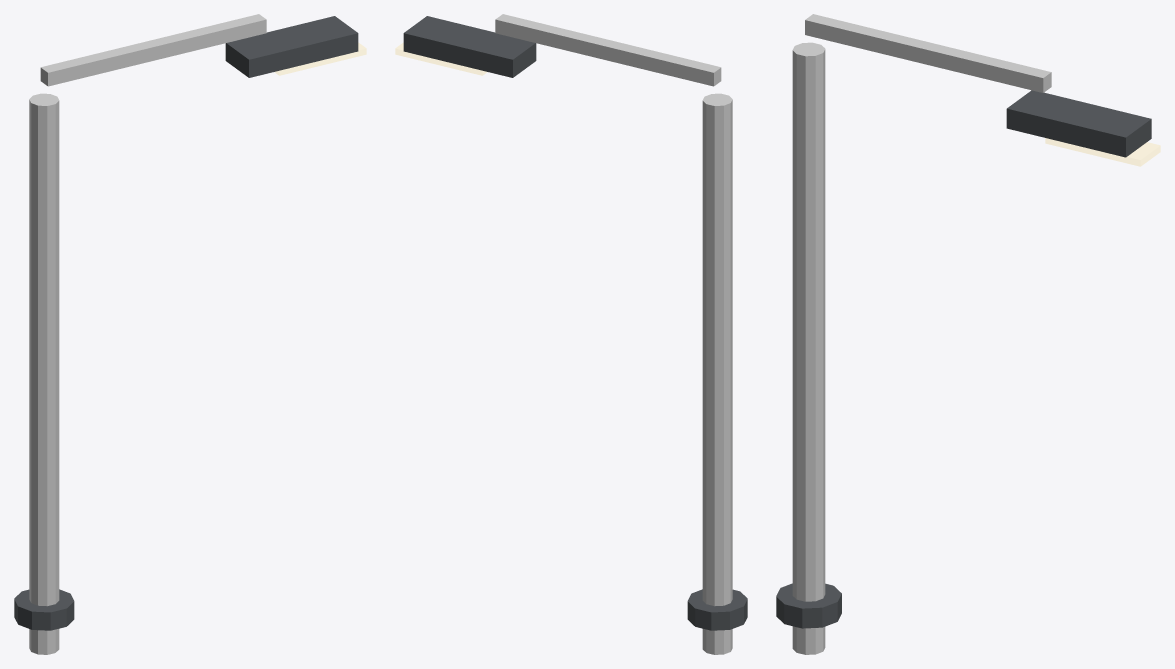
File: Lgtmodern_0000024.glb
3 renders of one model, left to right at view 1: azimuth 30°, elevation 25°; view 2: azimuth 150°, elevation 25°; view 3: azimuth 330°, elevation 25°, orthographic. The views are drawn at different scales.
Parts seen in each view (by area): view 1: Lgtmodern_0000024; view 2: Lgtmodern_0000024; view 3: Lgtmodern_0000024.
Boxes of the visible parts, box(x1,y1,x2,y2) form: Lgtmodern_0000024: box(14, 14, 366, 654); Lgtmodern_0000024: box(395, 14, 747, 654); Lgtmodern_0000024: box(776, 14, 1160, 654).
Bounding box in the file's own units: 2.33 × 3.8 × 0.3424.
